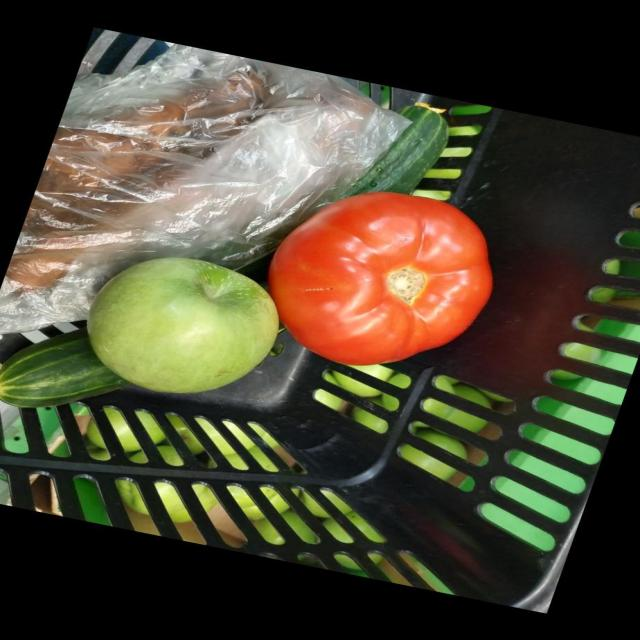apple: (136, 150, 391, 433)
cucumber: (170, 94, 578, 288), (0, 203, 37, 610)
tomato: (138, 149, 416, 464)
